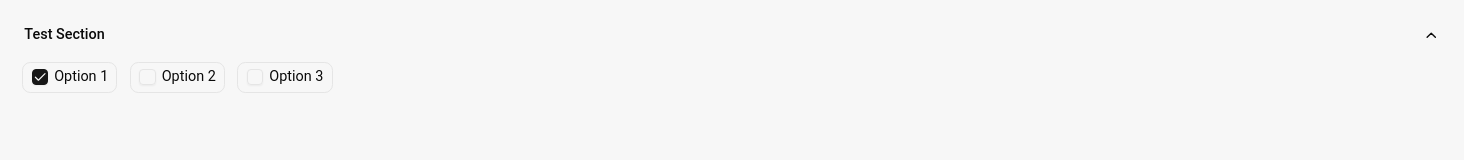
Test: CheckboxSection › renders all checkbox options when expanded
Expected: the text "Option 1" is shown, [54,67,108,88]
Expected: the text "Option 2" is shown, [162,67,216,88]
Click the button "Test Section".
click(65, 34)  # box [12,16,1452,54]
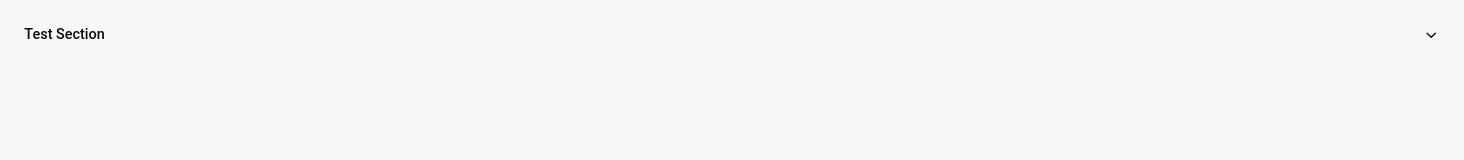
Expected: the text "Option 1" is gone
